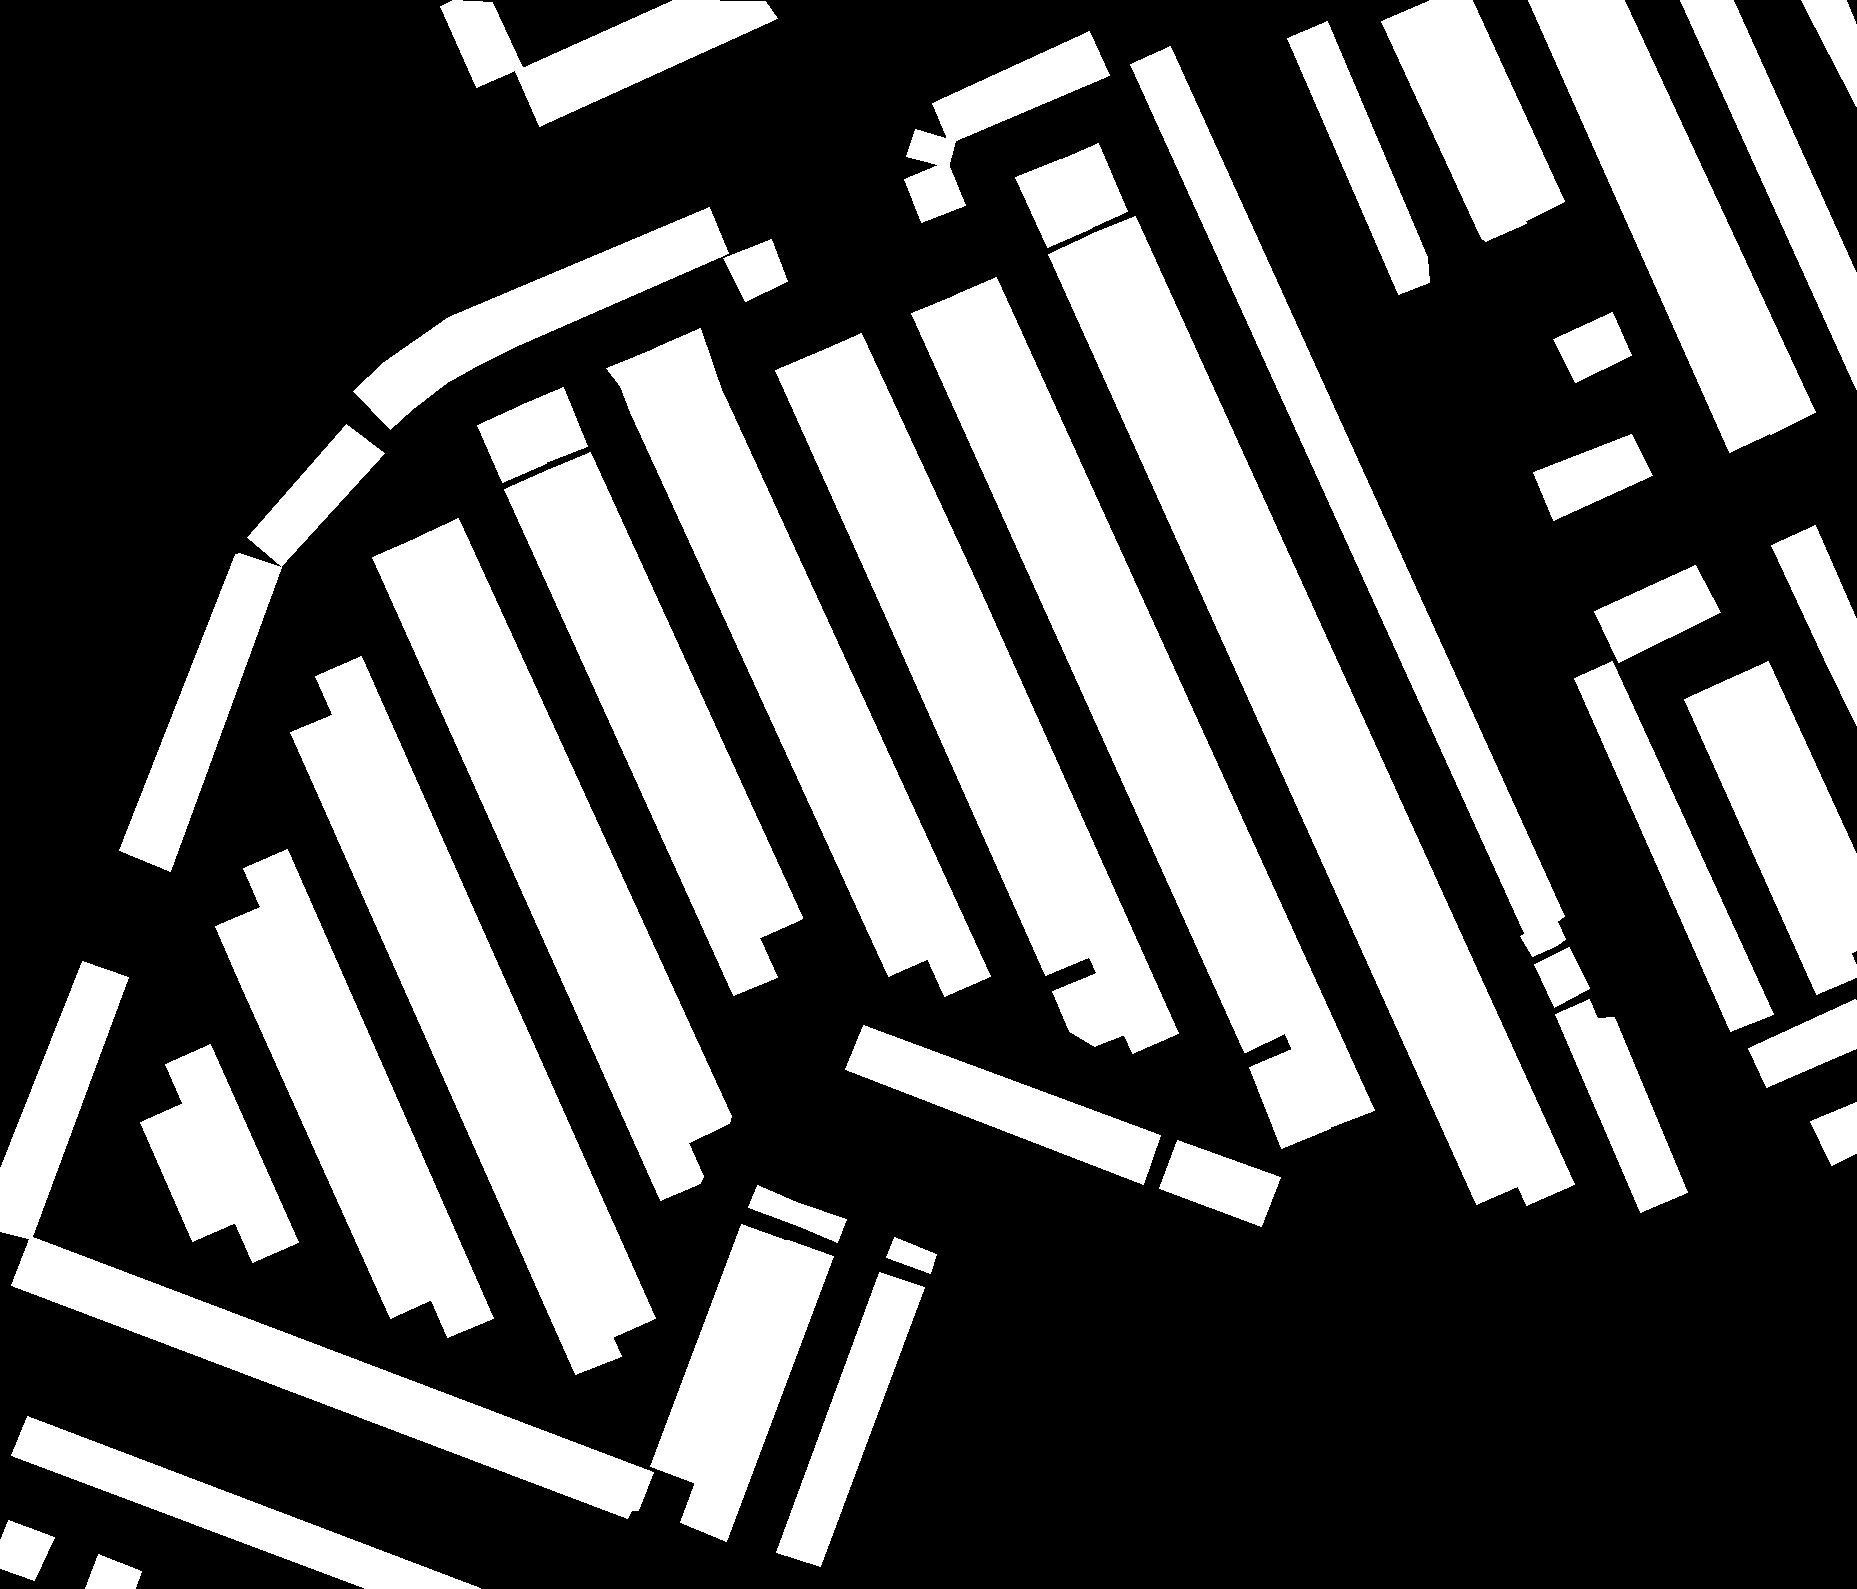parkingspot: (1089, 216, 1573, 1204), (1048, 233, 1521, 1204), (1130, 46, 1565, 955), (954, 277, 1375, 1129), (911, 295, 1289, 1051), (818, 333, 1178, 1053), (315, 656, 656, 1338), (372, 538, 703, 1200), (290, 713, 621, 1375), (605, 347, 932, 976), (415, 519, 731, 1144), (776, 352, 1092, 976), (681, 393, 990, 996), (11, 1236, 653, 1518), (504, 470, 777, 995), (547, 452, 802, 940), (243, 850, 493, 1337), (1528, 0, 1772, 452), (1573, 0, 1814, 434), (214, 906, 434, 1318), (353, 207, 728, 429), (11, 1416, 482, 1589), (1573, 661, 1773, 1031), (1680, 0, 1855, 389), (1684, 679, 1857, 995), (118, 553, 281, 872), (845, 1025, 1160, 1184), (679, 1241, 832, 1542), (776, 1272, 924, 1565), (1286, 20, 1428, 295), (1726, 661, 1857, 955), (649, 1223, 788, 1483), (0, 962, 128, 1239), (1381, 3, 1526, 241), (515, 0, 777, 126), (1420, 0, 1564, 222), (166, 1044, 298, 1263), (1554, 999, 1687, 1212), (932, 32, 1110, 143), (247, 424, 385, 566), (1770, 525, 1857, 727), (140, 1102, 238, 1241), (1594, 564, 1720, 662), (1159, 1140, 1280, 1226), (1532, 434, 1652, 520), (1748, 999, 1857, 1088), (1249, 1047, 1330, 1148), (440, 0, 522, 87), (1015, 159, 1091, 247), (654, 328, 724, 416), (1800, 0, 1857, 107), (1058, 143, 1127, 229), (1051, 971, 1127, 1047), (1553, 312, 1632, 381), (519, 386, 586, 463), (478, 405, 545, 482), (724, 240, 787, 301), (903, 161, 965, 222), (1534, 947, 1589, 1007), (0, 1520, 54, 1580), (1810, 1102, 1857, 1165), (791, 1203, 847, 1242), (747, 1185, 801, 1223), (906, 129, 955, 167), (886, 1237, 936, 1274), (85, 1554, 140, 1587)
